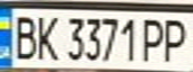1: (118, 15, 142, 62)
3: (81, 14, 103, 62), (63, 14, 84, 62)
7: (100, 15, 121, 62)
B: (9, 11, 39, 61)
K: (30, 11, 60, 61)
P: (157, 16, 193, 63), (136, 15, 169, 63)
